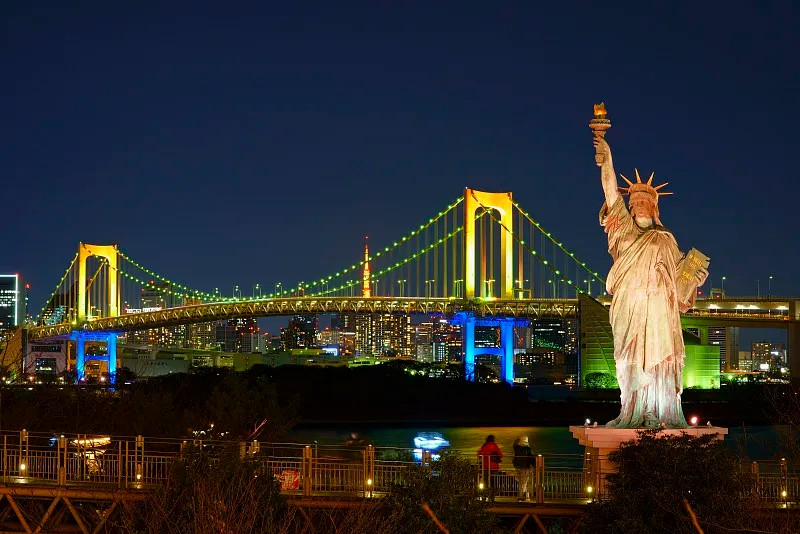SL: (569, 101, 728, 497)
